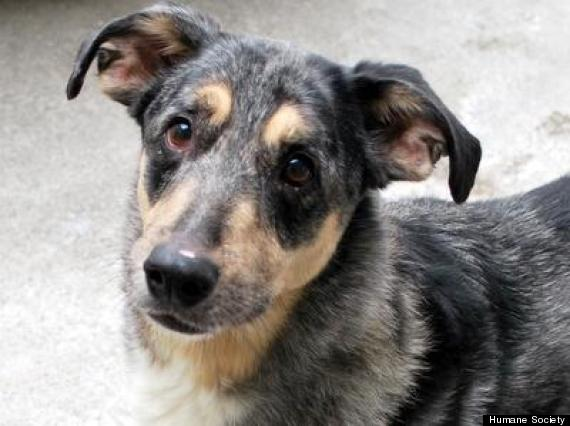dog: (0, 0, 570, 426)
